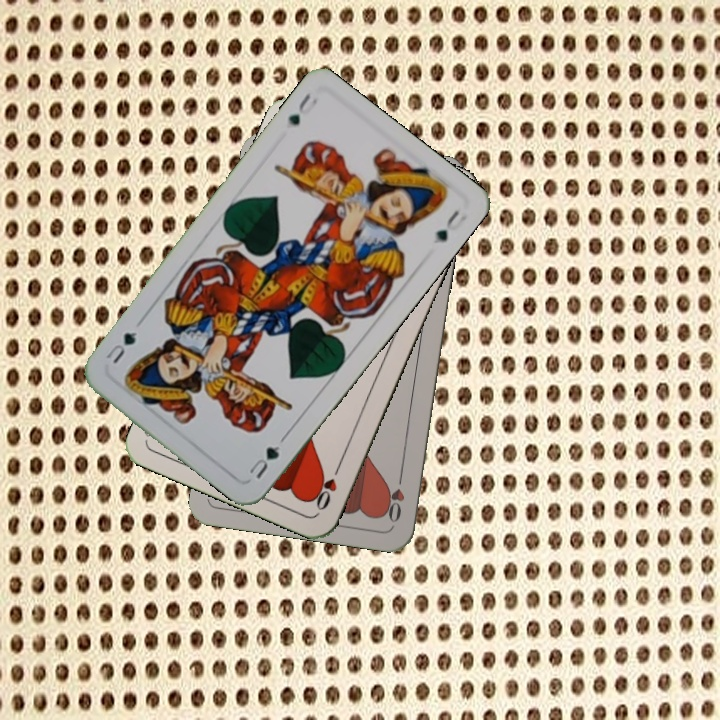GU: (245, 441, 283, 482), (284, 88, 320, 129)
HO: (309, 458, 344, 513), (381, 468, 407, 525)
